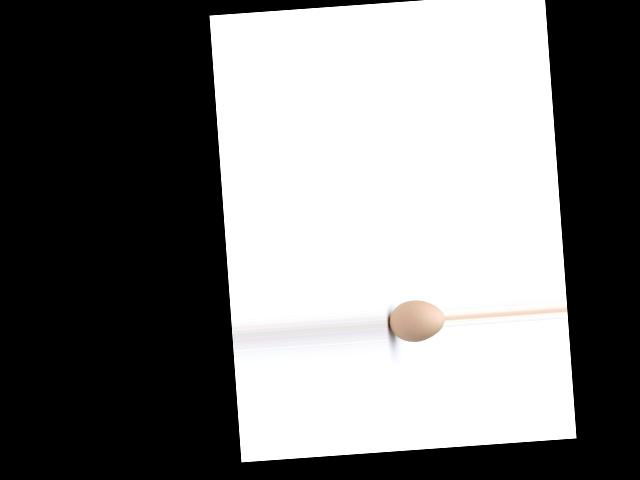egg: (387, 298, 445, 343)
